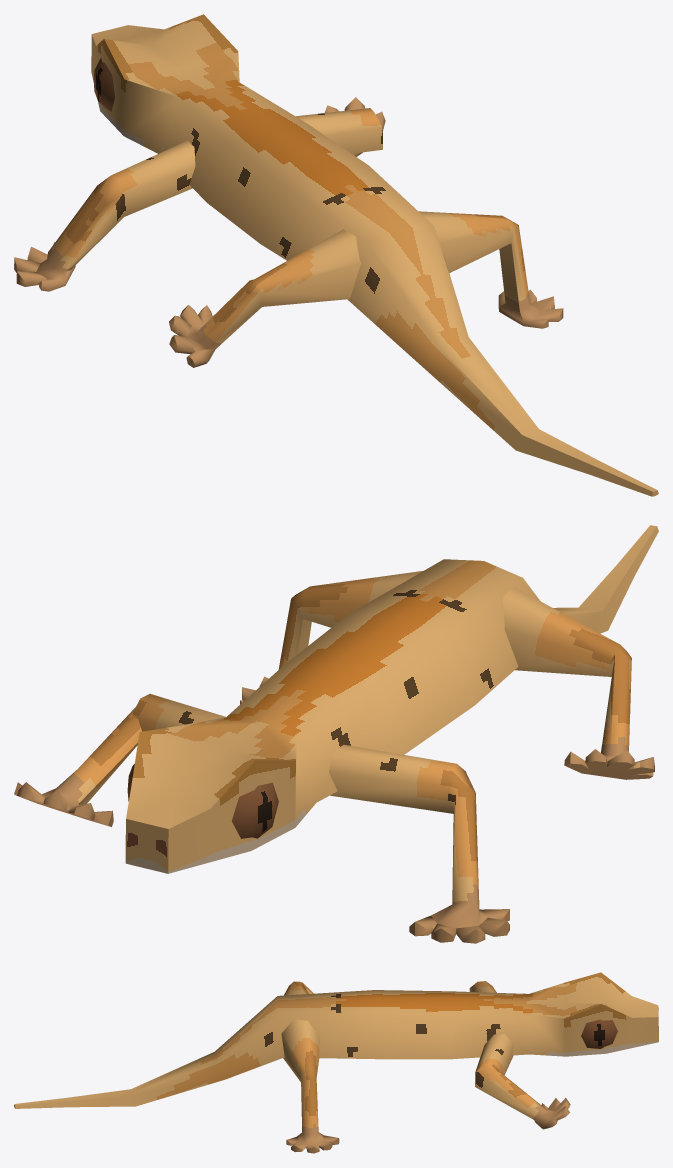
Rendered from crested-gecko-colis.glb.
The picture shows the model from 3 angles, top to bottom: view 1: azimuth 30°, elevation 25°; view 2: azimuth 150°, elevation 25°; view 3: azimuth 270°, elevation 25°; orthographic projection. The views are drawn at different scales.
Parts seen in each view (by area): view 1: Cube; view 2: Cube; view 3: Cube.
Part boxes in pixels (box(x1,y1,x2,y2)): Cube: box(14, 14, 658, 496); Cube: box(14, 525, 658, 943); Cube: box(14, 972, 658, 1153).
Size of the model in its own units: 4.85 by 1.95 by 10.44.
Materials: 1 (1 with a texture image).
